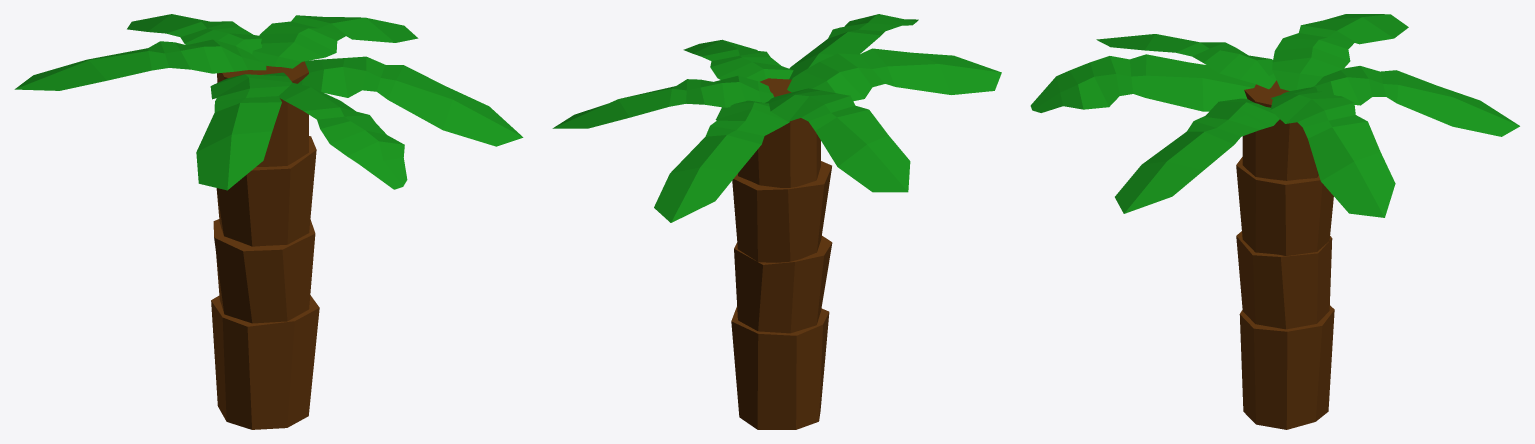
The model's file is palmeiraCorregida.gltf.
The picture shows the model from 3 angles, left to right: view 1: azimuth 30°, elevation 25°; view 2: azimuth 150°, elevation 25°; view 3: azimuth 270°, elevation 25°; orthographic projection. The views are drawn at different scales.
Parts seen in each view (by area): view 1: Palmeira; view 2: Palmeira; view 3: Palmeira.
Boxes of the visible parts, <box> form: Palmeira: <box>14,14,523,429</box>; Palmeira: <box>552,14,1001,429</box>; Palmeira: <box>1030,14,1519,429</box>.
Size of the model in its own units: 9.67 by 8.72 by 11.29.
